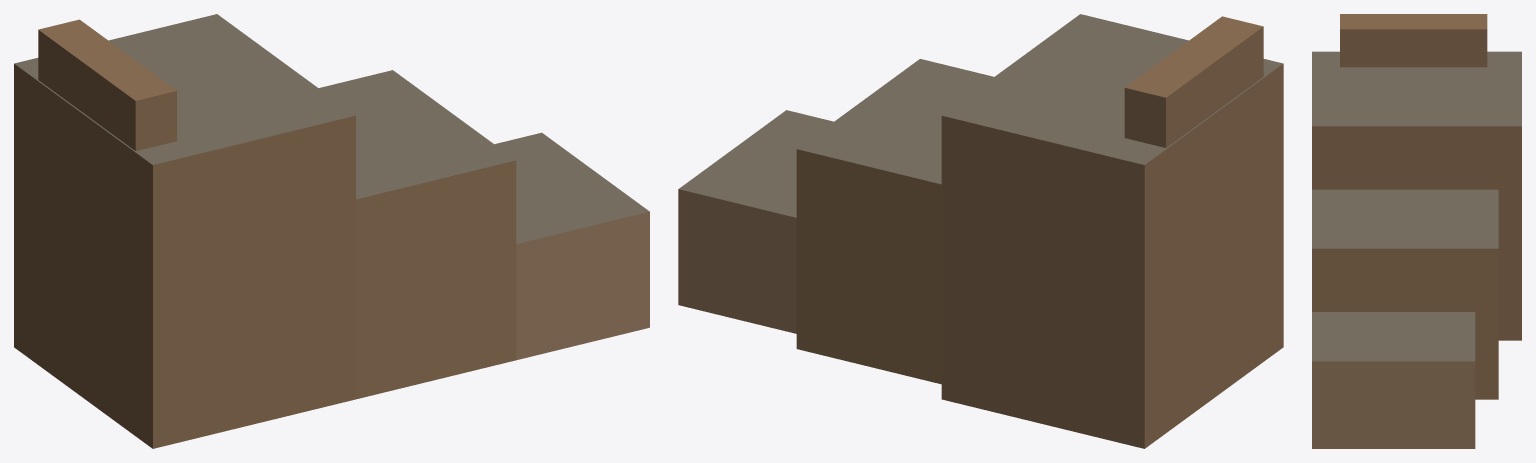
File: cr-pueblo-terraces.towns-v1.lod2.glb
3 views of the same model, side by side, from view 1: azimuth 30°, elevation 25°; view 2: azimuth 150°, elevation 25°; view 3: azimuth 270°, elevation 25° (orthographic). The views are drawn at different scales.
Visible parts, largest first — view 1: cr-pueblo-terraces; view 2: cr-pueblo-terraces; view 3: cr-pueblo-terraces.
Boxes of the visible parts, x1,y1,x2,y2 form: cr-pueblo-terraces: (14,14,649,448); cr-pueblo-terraces: (678,14,1283,448); cr-pueblo-terraces: (1312,14,1521,448).
Bounding box in the file's own units: 18.6 × 11.95 × 9.
